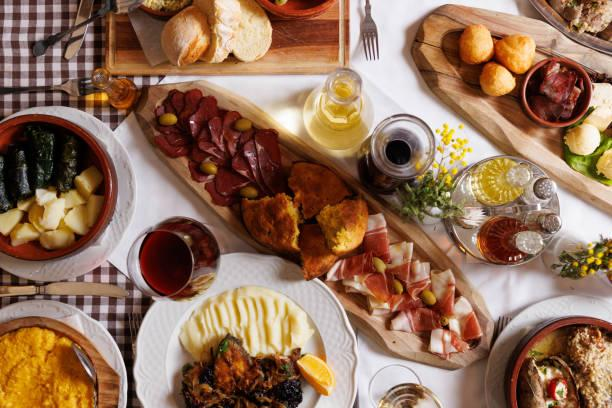Braised Crucian Carp: (410, 3, 610, 231), (129, 254, 356, 408), (0, 114, 119, 268)
